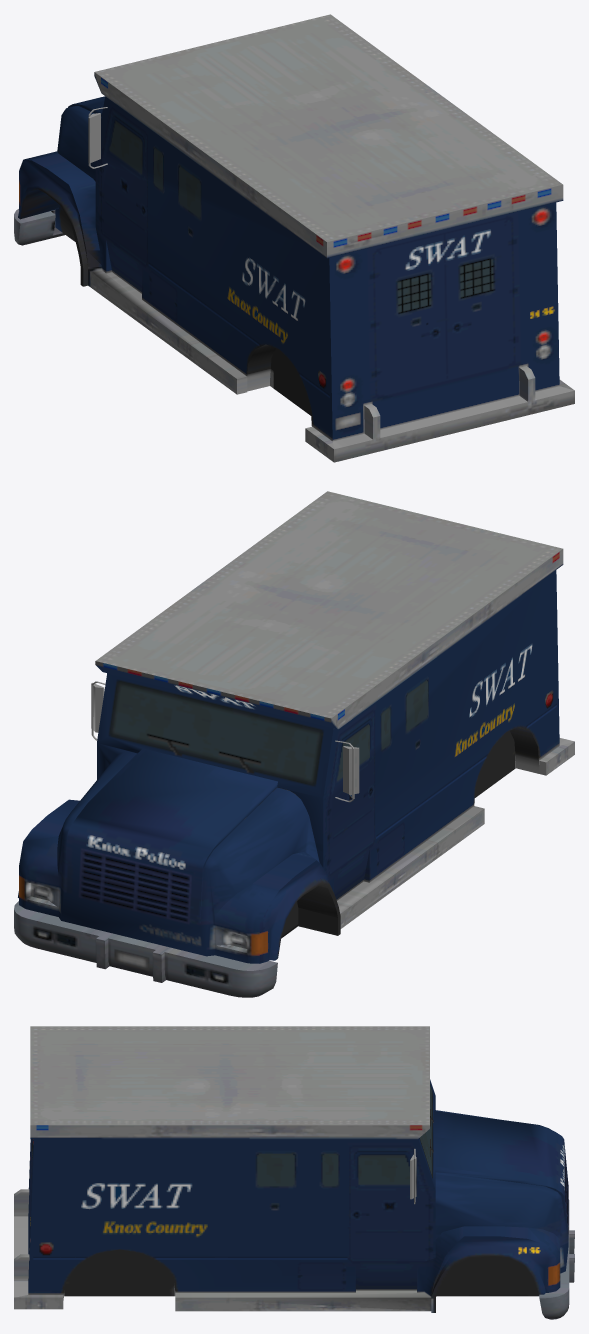
File: Vehicle_SwatTruck.fbx
3 renders of one model, top to bottom at view 1: azimuth 30°, elevation 25°; view 2: azimuth 150°, elevation 25°; view 3: azimuth 270°, elevation 25°, orthographic. The views are drawn at different scales.
Visible parts, largest first — view 1: SwatTruck; view 2: SwatTruck; view 3: SwatTruck.
Part boxes in pixels (x1,y1,x2,y2): SwatTruck: (14, 14, 574, 462); SwatTruck: (14, 491, 574, 997); SwatTruck: (14, 1026, 574, 1319).
Bounding box in the file's own units: 261 × 209 × 551.
